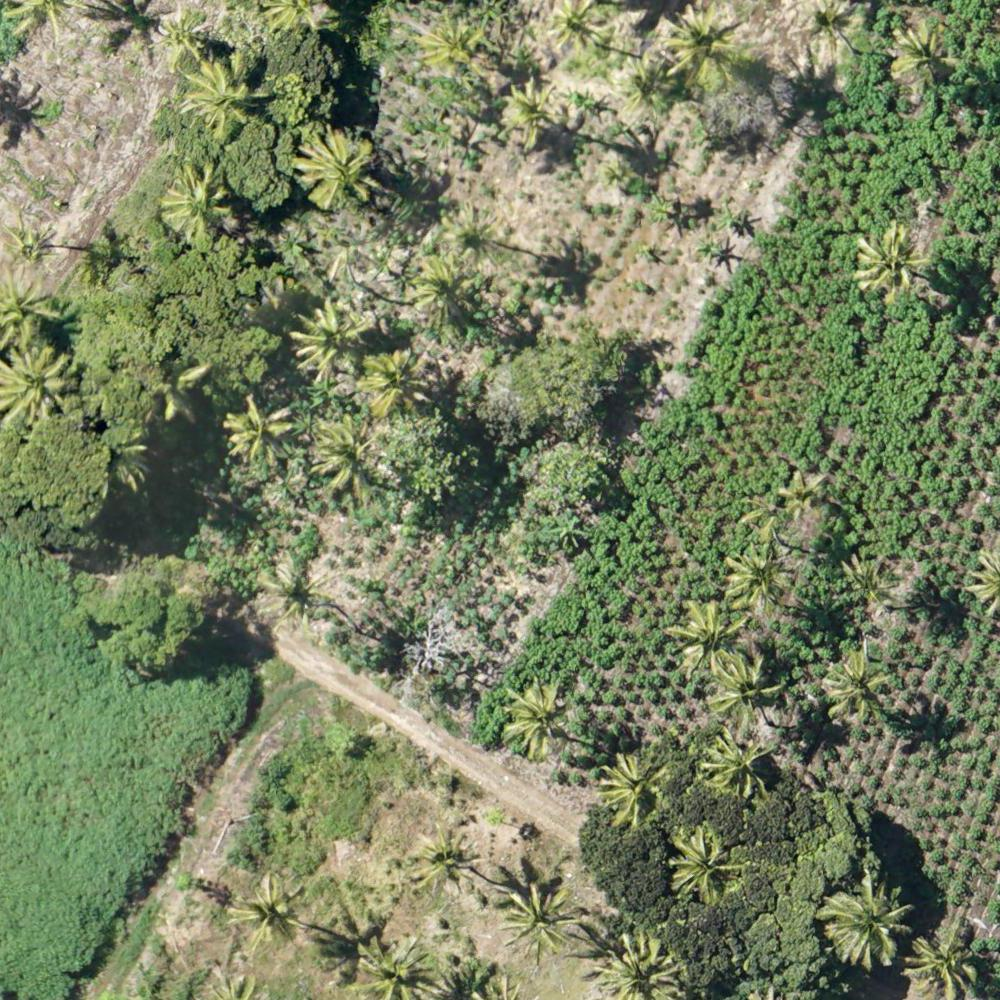Palm: (818, 873, 906, 964), (293, 126, 382, 208), (669, 821, 749, 904), (667, 596, 747, 675), (295, 295, 370, 377), (1, 347, 78, 425), (307, 416, 383, 495), (158, 161, 231, 243), (350, 930, 435, 999), (502, 884, 581, 958), (183, 61, 262, 135), (597, 750, 672, 827), (711, 654, 790, 727), (600, 931, 686, 998), (855, 217, 929, 294), (669, 5, 747, 77), (233, 875, 306, 950), (703, 726, 778, 798), (406, 823, 482, 894), (225, 393, 299, 464), (911, 929, 987, 993), (823, 645, 887, 719), (363, 351, 433, 417), (506, 681, 571, 751), (720, 542, 786, 610), (151, 4, 215, 72), (415, 256, 476, 326), (888, 24, 951, 90), (499, 77, 561, 144), (414, 14, 483, 73), (2, 210, 56, 282), (440, 202, 503, 263), (3, 280, 62, 345), (551, 1, 614, 61), (615, 50, 680, 107), (842, 554, 900, 606), (804, 2, 856, 58), (783, 472, 828, 519)
